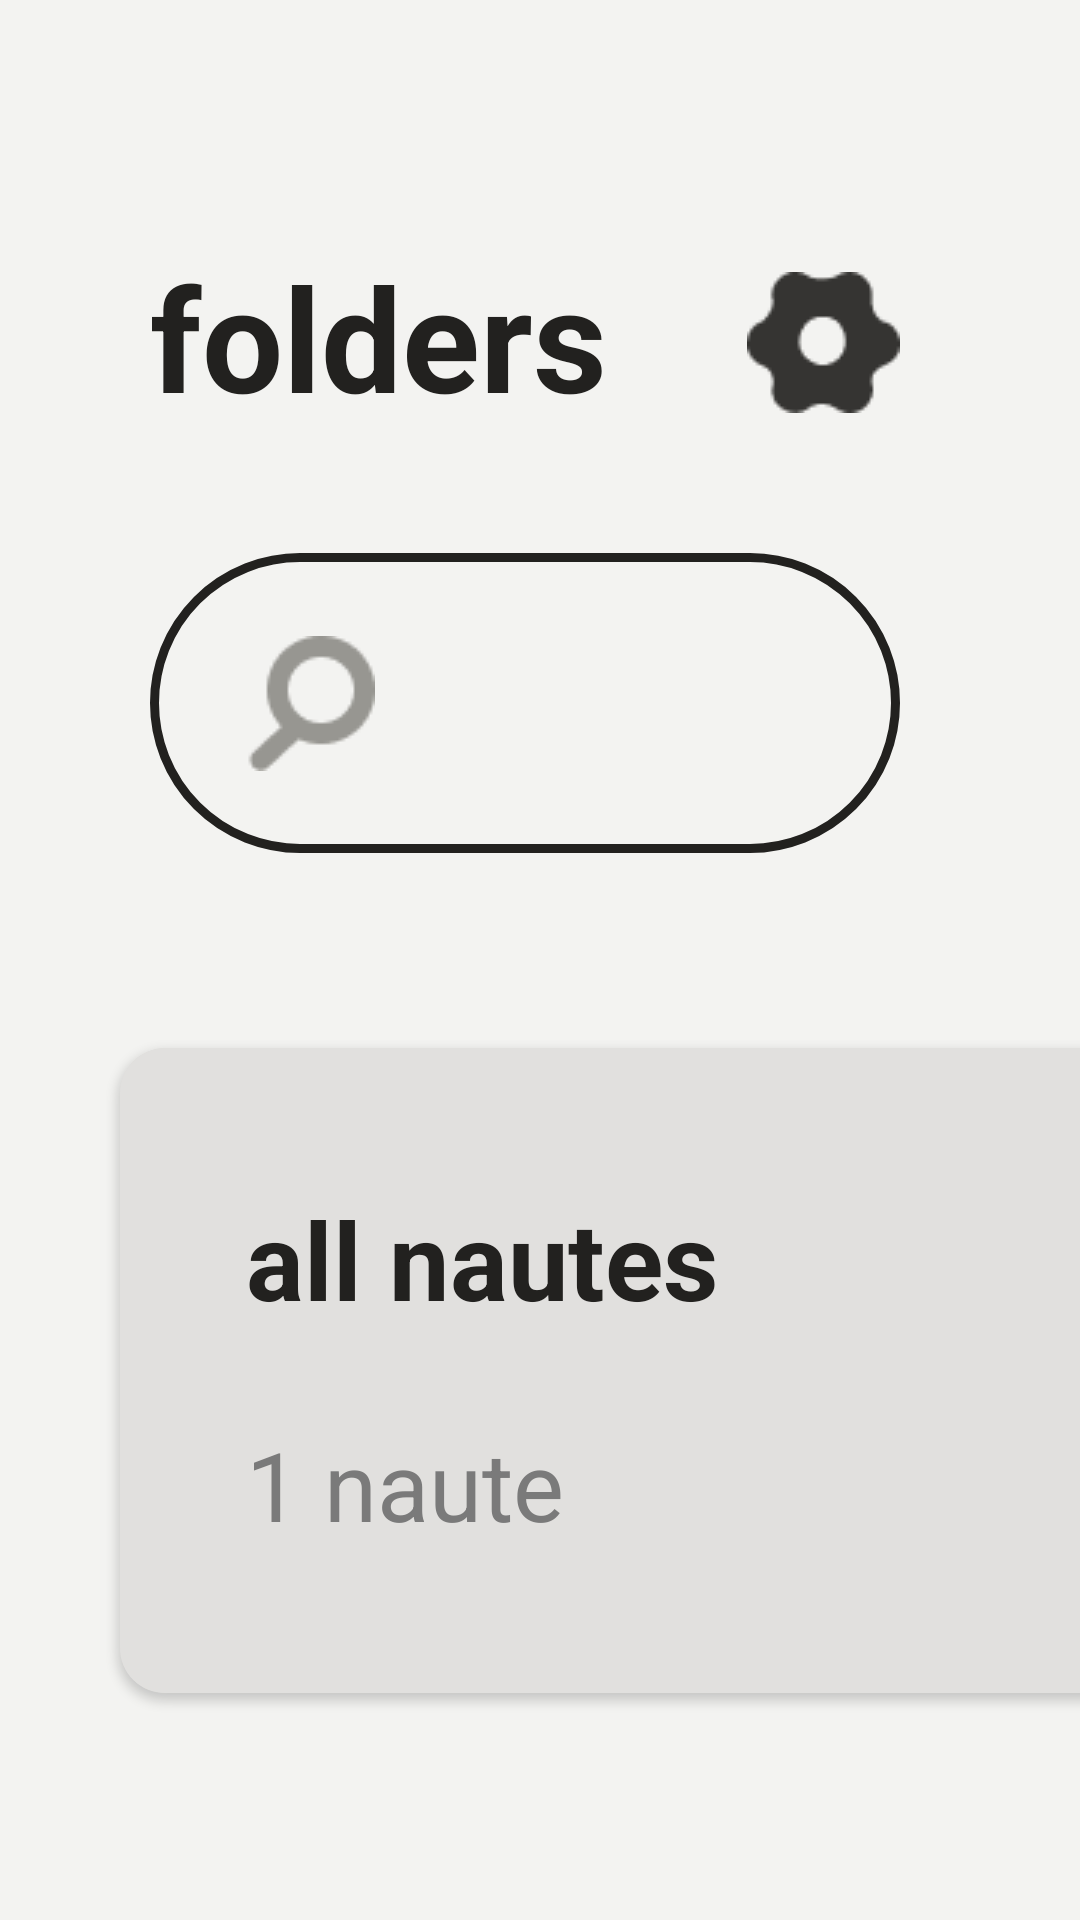

Screen size 1080 × 1920. Icon name, then its box in pixels as rect(x1, y1, x2, y2):
settings: rect(747, 272, 900, 413)
